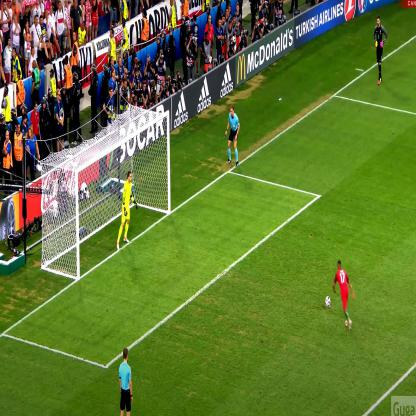penalty kick: (46, 137, 390, 333)
